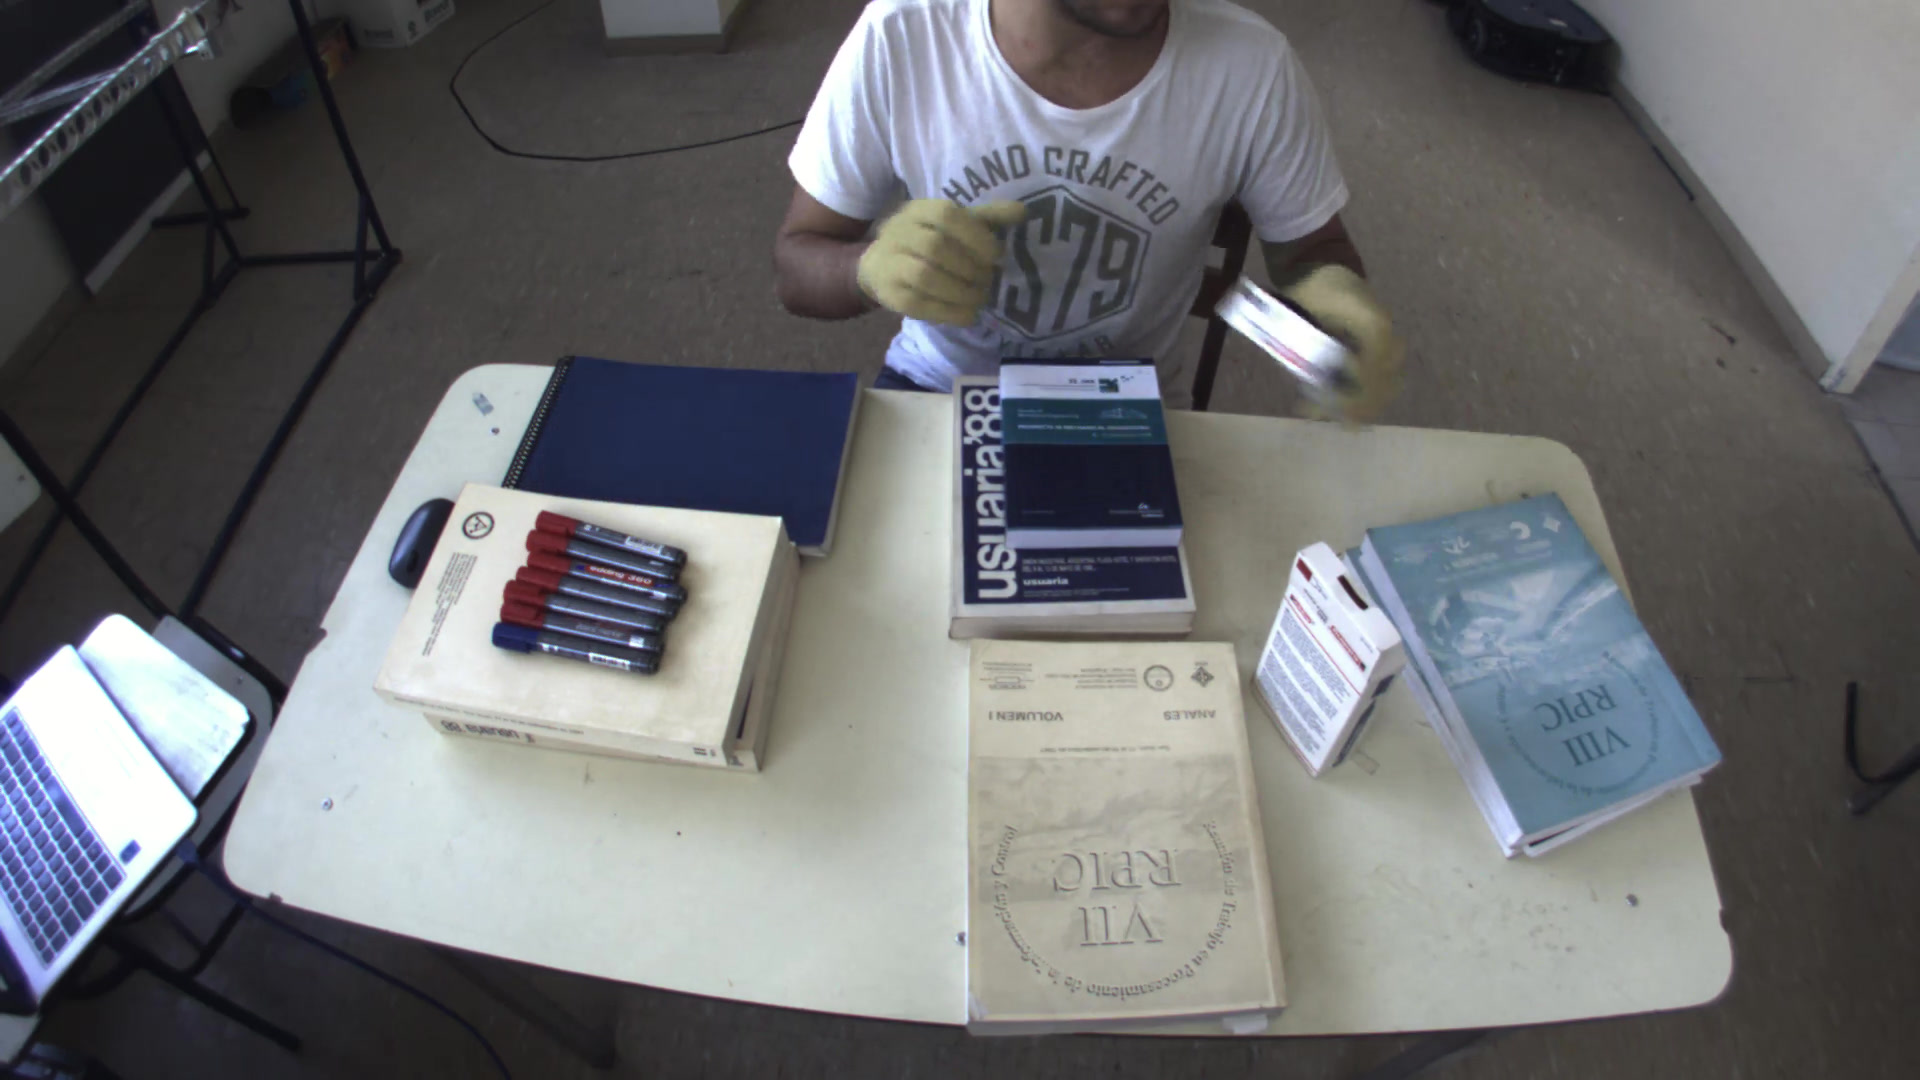hand: (844, 182, 1044, 324)
